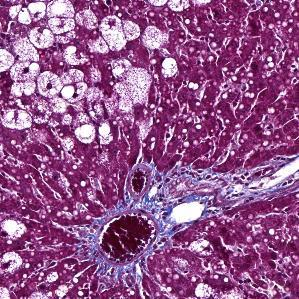fibrosis: (127, 171, 242, 214)
